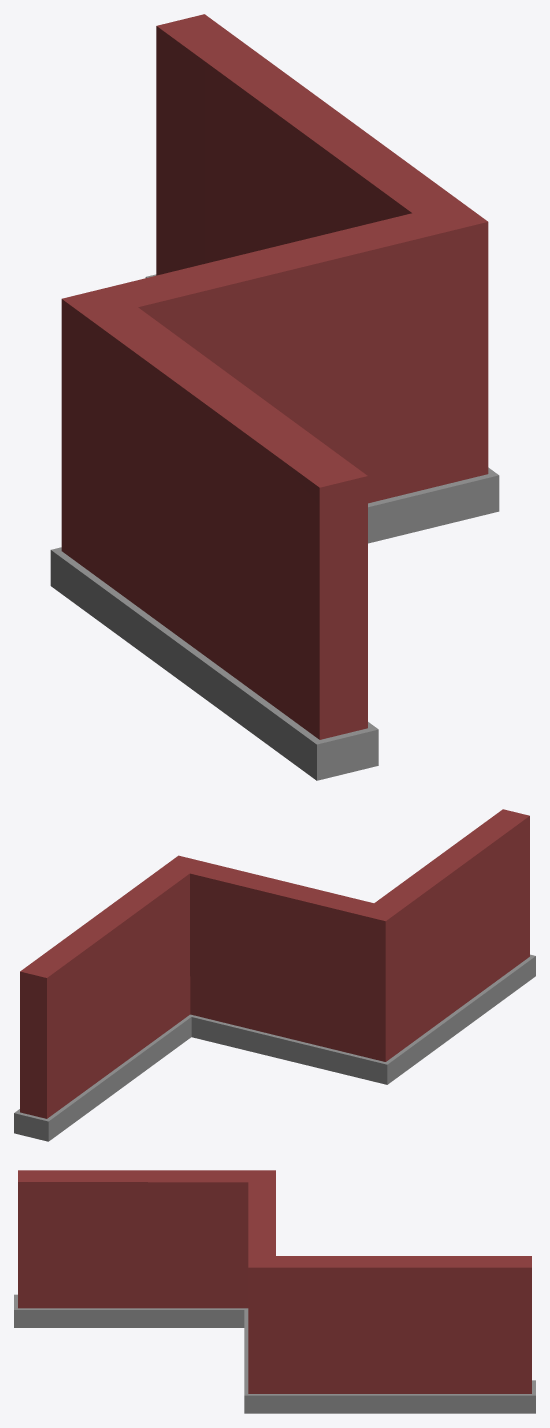
Rendered from qiang03.FBX.
3 views of the same model, one above another, from view 1: azimuth 30°, elevation 25°; view 2: azimuth 150°, elevation 25°; view 3: azimuth 270°, elevation 25° (orthographic). The views are drawn at different scales.
Visible parts, largest first — view 1: 03; view 2: 03; view 3: 03.
Boxes of the visible parts, <box> form: 03: <box>50,14,499,780</box>; 03: <box>14,809,535,1141</box>; 03: <box>14,1170,535,1413</box>.
Size of the model in its own units: 487 by 325 by 1067.
